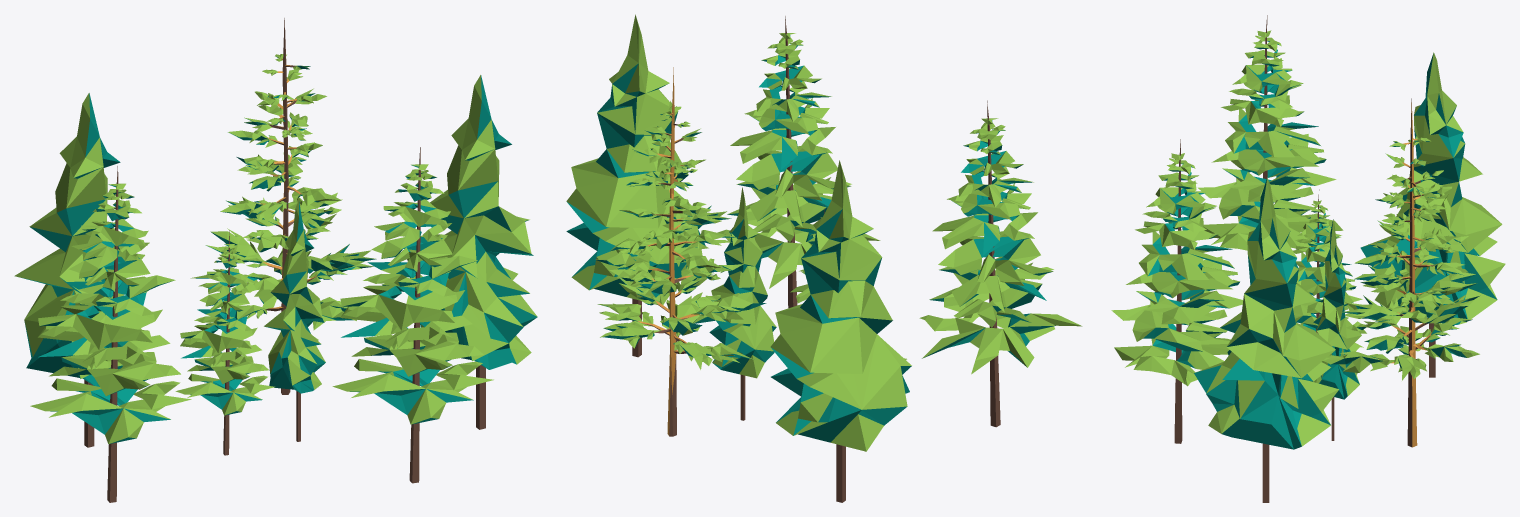
The model's file is tree4.glb.
3 renders of one model, left to right at view 1: azimuth 30°, elevation 25°; view 2: azimuth 150°, elevation 25°; view 3: azimuth 270°, elevation 25°, orthographic. The views are drawn at different scales.
Parts seen in each view (by area): view 1: group1955150288 (×3), group871053052 (×3), group819735516; view 2: group871053052 (×3), group1955150288 (×2), group819735516; view 3: group871053052 (×3), group1955150288 (×3), group819735516.
Part boxes in pixels (<box>): group1955150288 (×3): <box>30,147,493,502</box>; group871053052 (×3): <box>14,75,537,447</box>; group819735516: <box>190,18,376,394</box>; group871053052 (×3): <box>566,14,911,502</box>; group1955150288 (×2): <box>717,16,1082,427</box>; group819735516: <box>595,67,766,436</box>; group871053052 (×3): <box>1194,52,1505,502</box>; group1955150288 (×3): <box>1111,15,1366,443</box>; group819735516: <box>1323,98,1479,447</box>.
Size of the model in its own units: 6.4 by 4.78 by 4.7.
